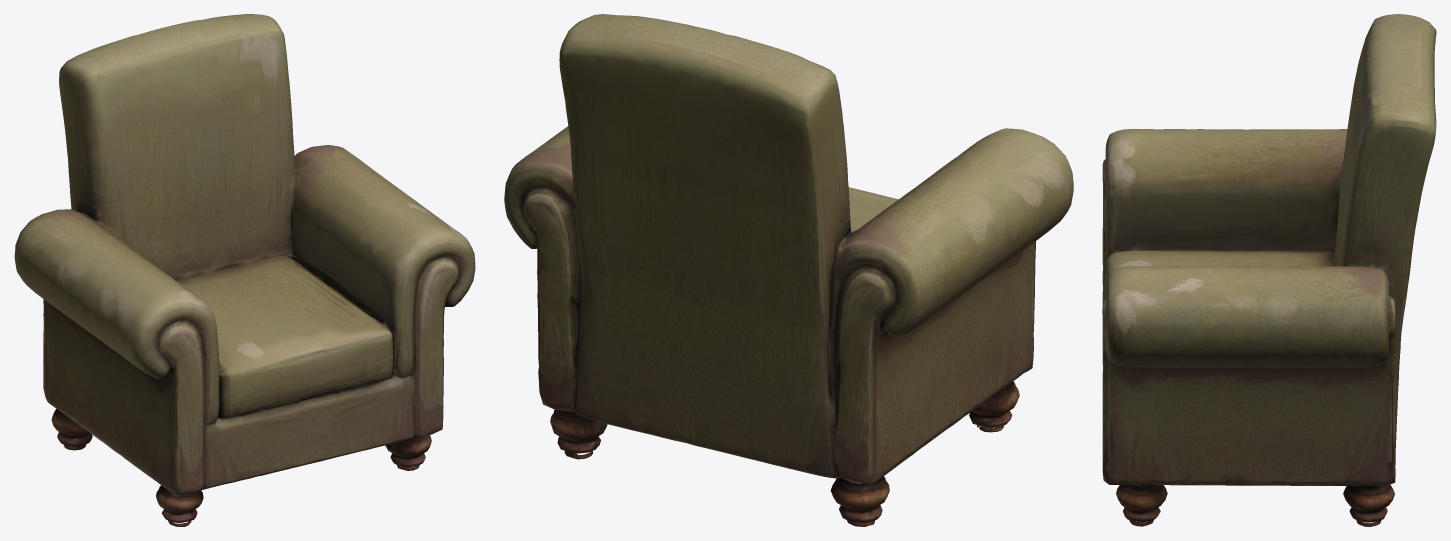
Rendered from Furn_Armchair.fbx.
The picture shows the model from 3 angles, left to right: view 1: azimuth 30°, elevation 25°; view 2: azimuth 150°, elevation 25°; view 3: azimuth 270°, elevation 25°; orthographic projection. The views are drawn at different scales.
Parts seen in each view (by area): view 1: texture_mapping; view 2: texture_mapping; view 3: texture_mapping.
Boxes of the visible parts, bbox=[...] form: texture_mapping: bbox=[14, 14, 475, 526]; texture_mapping: bbox=[504, 14, 1073, 526]; texture_mapping: bbox=[1102, 14, 1436, 526].
Bounding box in the file's own units: 0.9576 × 0.745 × 1.
Materials: 1 (1 with a texture image).
